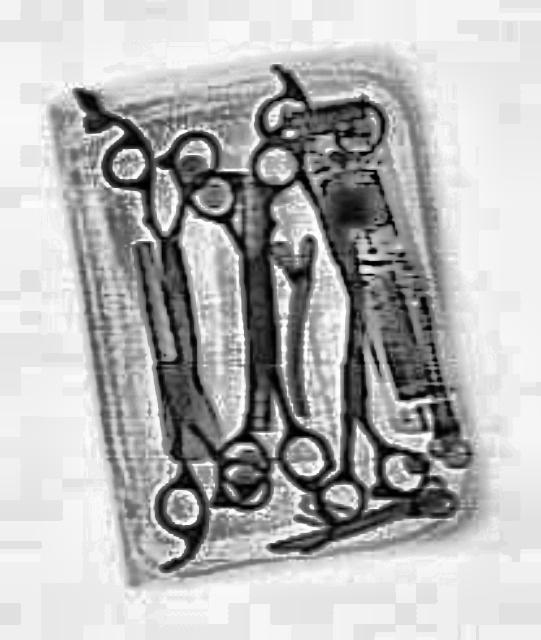Scissors: (72, 225, 272, 540), (178, 134, 324, 396), (192, 240, 332, 492), (96, 125, 238, 372), (296, 271, 424, 523)
